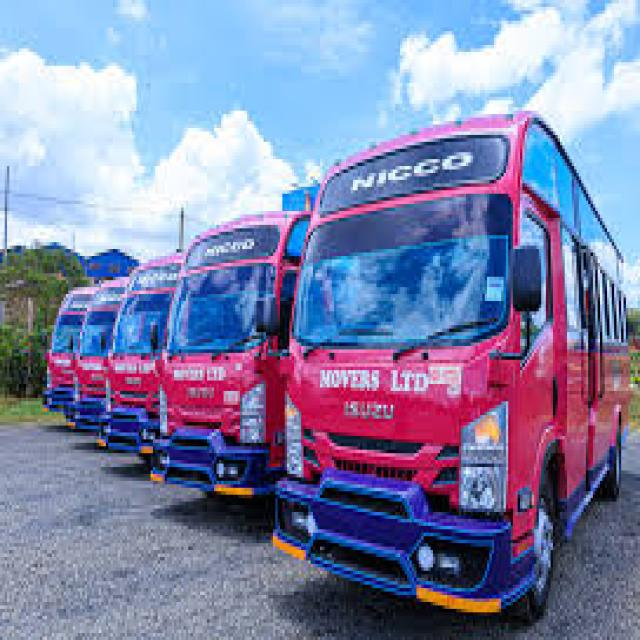bus: (280, 71, 640, 633)
